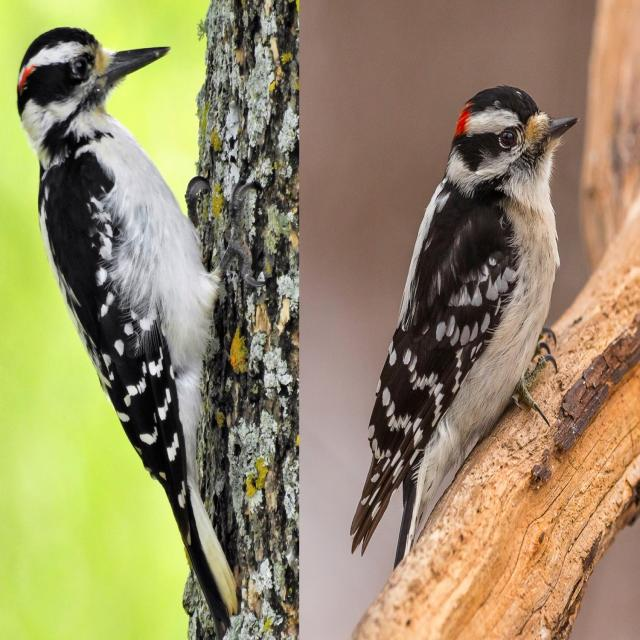woodpecker: (17, 28, 245, 639), (351, 85, 579, 565)
